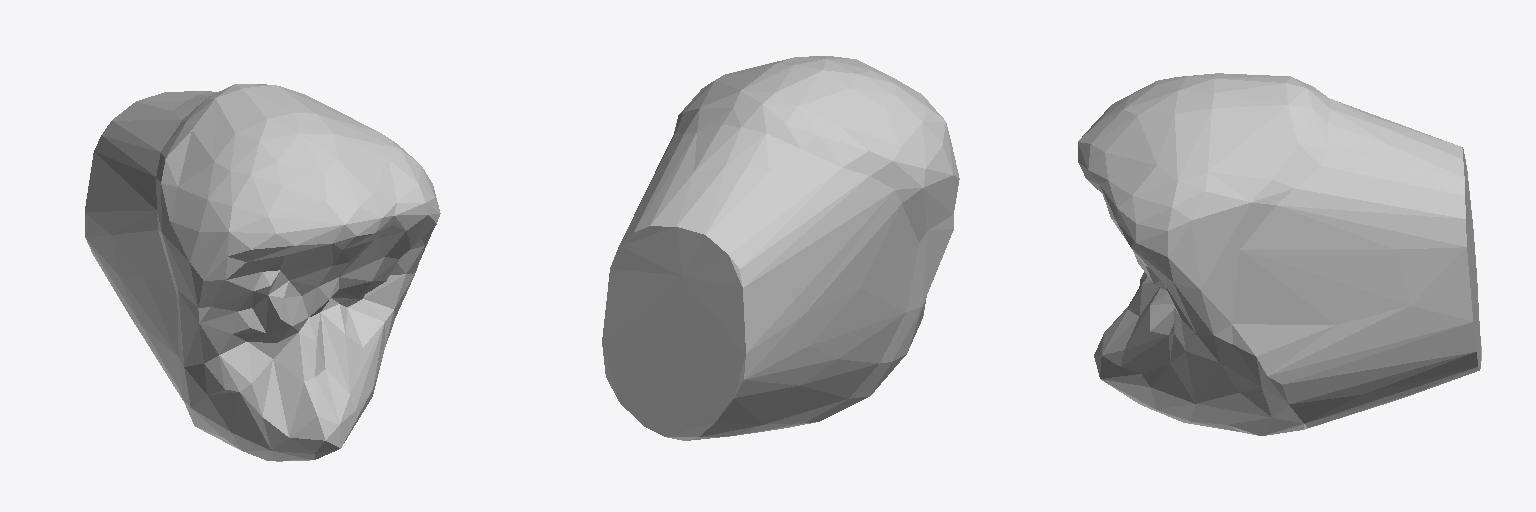
File: local_t25_7780_si.OBJ
The picture shows the model from 3 angles: view 1: azimuth 30°, elevation 25°; view 2: azimuth 150°, elevation 25°; view 3: azimuth 270°, elevation 25°; orthographic projection.
Visible parts, largest first — view 1: Group16759; view 2: Group16759; view 3: Group16759.
Part boxes in pixels (left/top/right/bottom): Group16759: left=85, top=84, right=440, bottom=461; Group16759: left=602, top=56, right=959, bottom=440; Group16759: left=1078, top=73, right=1481, bottom=435.
Size of the model in its own units: 7.14 by 9.1 by 9.95.